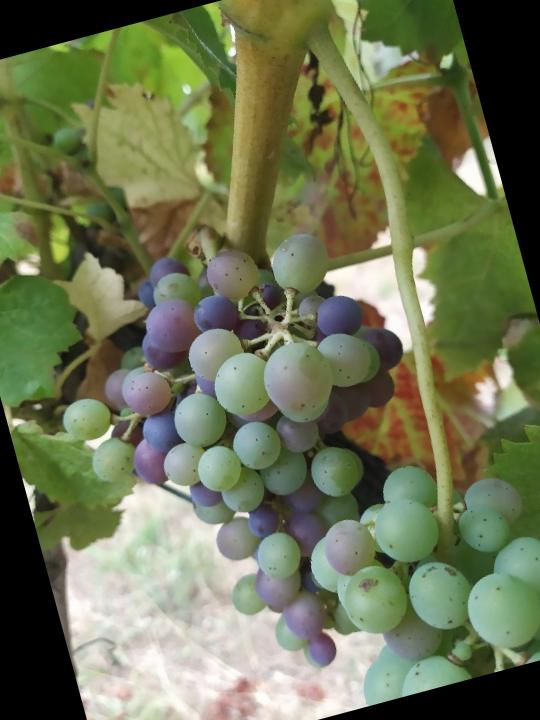grape: (26, 199, 482, 720)
